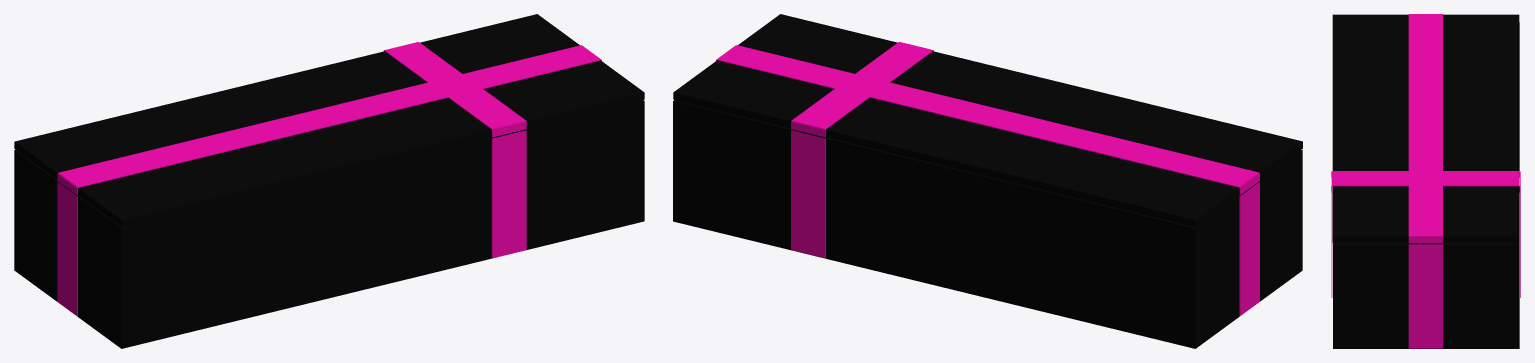
The model's file is squidbox.fbx.
The picture shows the model from 3 angles, left to right: view 1: azimuth 30°, elevation 25°; view 2: azimuth 150°, elevation 25°; view 3: azimuth 270°, elevation 25°; orthographic projection. The views are drawn at different scales.
Parts seen in each view (by area): view 1: box, lid; view 2: box, lid; view 3: lid, box.
Part boxes in pixels (<box>): box: <box>14,45,644,348</box>; lid: <box>14,14,644,226</box>; box: <box>673,45,1302,348</box>; lid: <box>673,14,1302,226</box>; lid: <box>1331,14,1520,243</box>; box: <box>1331,22,1520,348</box>.
Size of the model in its own units: 401 by 94.91 by 144.
